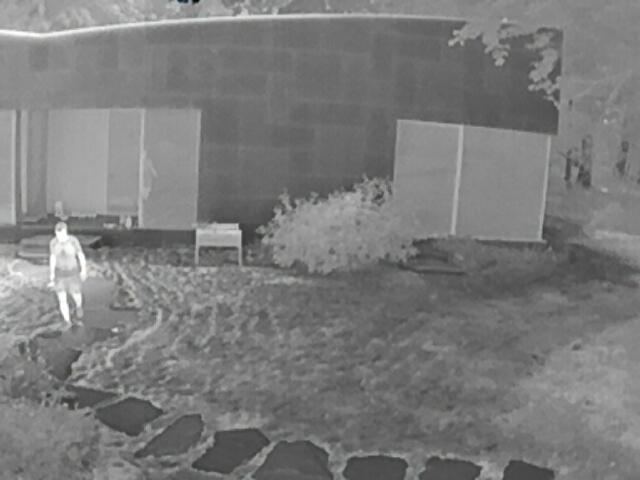person: (47, 222, 87, 330)
